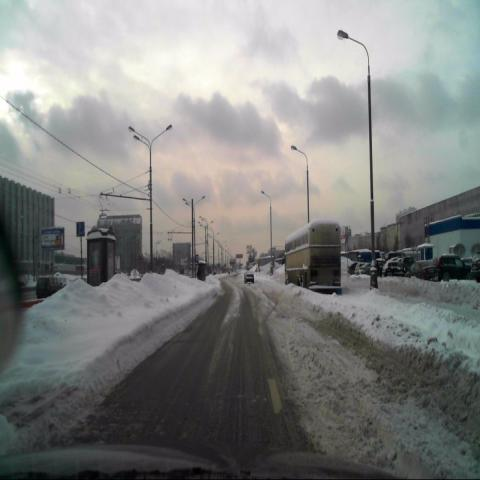6_6: (76, 221, 84, 236)
